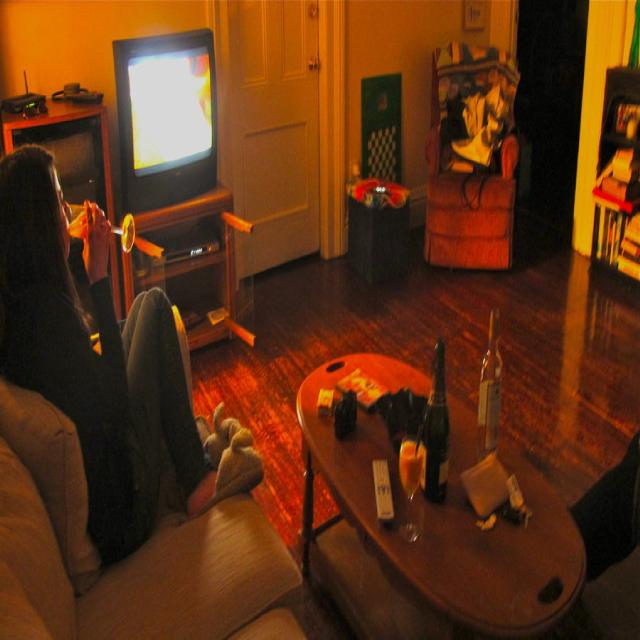Bottle: (421, 319, 471, 505), (473, 272, 515, 459)
Cup: (66, 193, 152, 268), (401, 428, 431, 575)
People: (0, 140, 258, 562)
Table: (288, 306, 610, 640)
chair: (421, 38, 522, 273)
